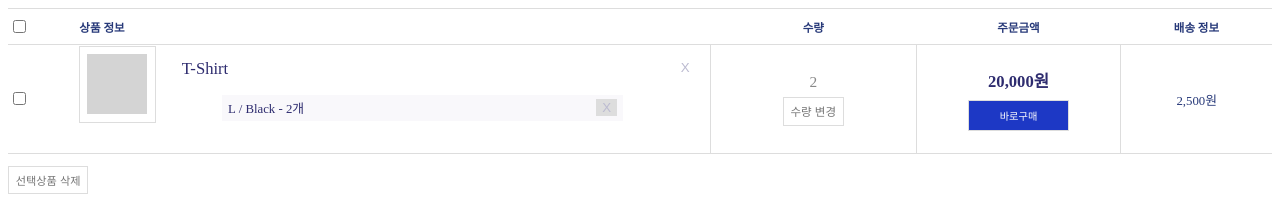
Test case: CartItem › 수량 변경 버튼 › 선택상품 삭제 › 선택되어 있는 상품을 장바구니에서 삭제한다
The image size is (1280, 211).
Click the checkbox named "T-Shirt" below "T-Shirt": coordinates (20, 99) [13, 92, 26, 105]
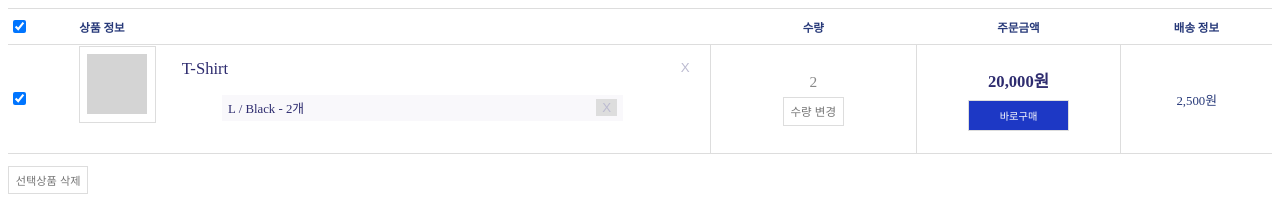
Now the checkbox named "T-Shirt" below "T-Shirt" is checked, box [13, 92, 26, 105]
Click the button "선택상품 삭제": coordinates (48, 180) [8, 166, 88, 194]
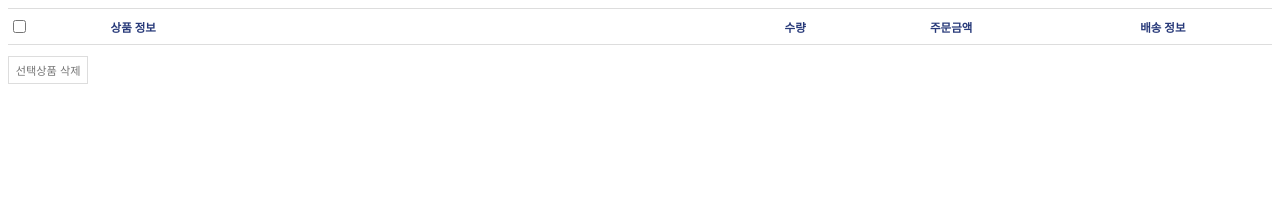
Now the text "T-Shirt" is gone
